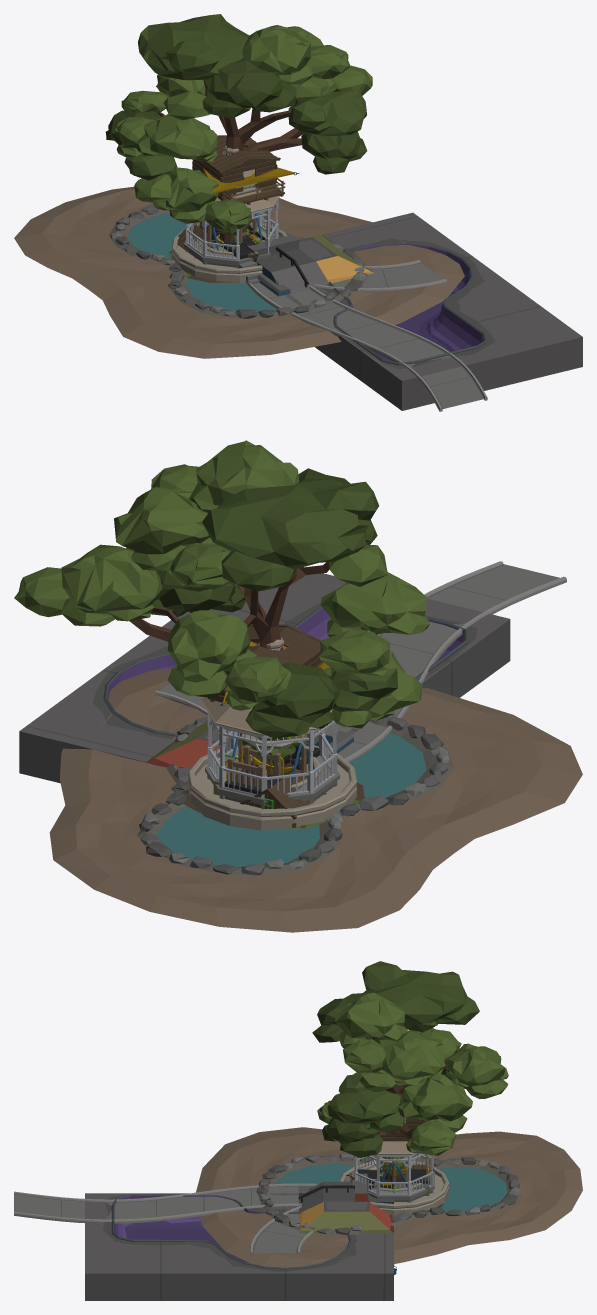
Rendered from park_protos.glb.
3 renders of one model, top to bottom at view 1: azimuth 30°, elevation 25°; view 2: azimuth 150°, elevation 25°; view 3: azimuth 270°, elevation 25°, orthographic. The views are drawn at different scales.
Parts seen in each view (by area): view 1: SM_Env_Tree_Large_01, SM_Env_Park_Pond_01, SM_Env_SkatePark_Bowl_01, SM_Env_Path_Round_02, SM_Env_Park_Pond_Water_01, SM_Env_Gazebo_01, SM_Env_Tree_Large_01_Treehouse, SM_Env_Park_Pond_Rocks_01, SM_Env_Path_Round_01, SM_Env_SkatePark_Rail_Ramp_01, SM_Env_SkatePark_Angled_Jump_01, SM_Env_Fountain_01 (+2 smaller); view 2: SM_Env_Tree_Large_01, SM_Env_Park_Pond_01, SM_Env_SkatePark_Bowl_01, SM_Env_Park_Pond_Water_01, SM_Env_Path_Round_02, SM_Env_Gazebo_01, SM_Env_Park_Pond_Rocks_01, SM_Env_Fountain_01, SM_Env_Tree_Large_01_Treehouse, SM_Env_SkatePark_Angled_Jump_01, SM_Prop_Playground_Roof_02, SM_Prop_Playground_Ship_01 (+1 smaller); view 3: SM_Env_Tree_Large_01, SM_Env_Park_Pond_01, SM_Env_SkatePark_Bowl_01, SM_Env_Path_Round_02, SM_Env_Park_Pond_Water_01, SM_Env_Park_Pond_Rocks_01, SM_Env_SkatePark_Angled_Jump_01, SM_Env_Gazebo_01, SM_Env_Path_Round_01, SM_Env_Fountain_01, SM_Env_SkatePark_Rail_Ramp_01, SM_Env_SkatePark_Rail_Box_03.
Boxes of the visible parts, x1,y1,x2,y2 form: SM_Env_Tree_Large_01: [105, 14, 372, 242]; SM_Env_Park_Pond_01: [14, 186, 464, 358]; SM_Env_SkatePark_Bowl_01: [285, 212, 582, 410]; SM_Env_Path_Round_02: [245, 281, 487, 411]; SM_Env_Park_Pond_Water_01: [127, 213, 276, 312]; SM_Env_Gazebo_01: [184, 145, 281, 284]; SM_Env_Tree_Large_01_Treehouse: [192, 135, 285, 241]; SM_Env_Park_Pond_Rocks_01: [111, 205, 366, 318]; SM_Env_Path_Round_01: [314, 260, 446, 292]; SM_Env_SkatePark_Rail_Ramp_01: [255, 232, 328, 293]; SM_Env_SkatePark_Angled_Jump_01: [299, 234, 374, 283]; SM_Env_Fountain_01: [172, 214, 287, 283]; SM_Env_Tree_Large_01: [14, 440, 429, 773]; SM_Env_Park_Pond_01: [49, 668, 582, 932]; SM_Env_SkatePark_Bowl_01: [19, 573, 510, 783]; SM_Env_Park_Pond_Water_01: [156, 733, 426, 866]; SM_Env_Path_Round_02: [315, 561, 566, 762]; SM_Env_Gazebo_01: [200, 636, 339, 809]; SM_Env_Park_Pond_Rocks_01: [139, 716, 449, 875]; SM_Env_Fountain_01: [188, 733, 356, 830]; SM_Env_Tree_Large_01_Treehouse: [207, 624, 323, 707]; SM_Env_SkatePark_Angled_Jump_01: [146, 720, 230, 768]; SM_Prop_Playground_Roof_02: [240, 768, 326, 827]; SM_Prop_Playground_Ship_01: [225, 743, 307, 789]; SM_Env_Tree_Large_01: [312, 961, 508, 1180]; SM_Env_Park_Pond_01: [196, 1127, 582, 1267]; SM_Env_SkatePark_Bowl_01: [85, 1193, 393, 1300]; SM_Env_Path_Round_02: [14, 1183, 317, 1223]; SM_Env_Park_Pond_Water_01: [274, 1164, 507, 1211]; SM_Env_Park_Pond_Rocks_01: [256, 1153, 521, 1234]; SM_Env_SkatePark_Angled_Jump_01: [299, 1201, 393, 1233]; SM_Env_Gazebo_01: [345, 1118, 434, 1202]; SM_Env_Path_Round_01: [250, 1205, 313, 1255]; SM_Env_Fountain_01: [339, 1155, 449, 1215]; SM_Env_SkatePark_Rail_Ramp_01: [298, 1181, 393, 1212]; SM_Env_SkatePark_Rail_Box_03: [357, 1169, 430, 1184].
Size of the model in its own units: 18.79 by 16.87 by 29.95.
